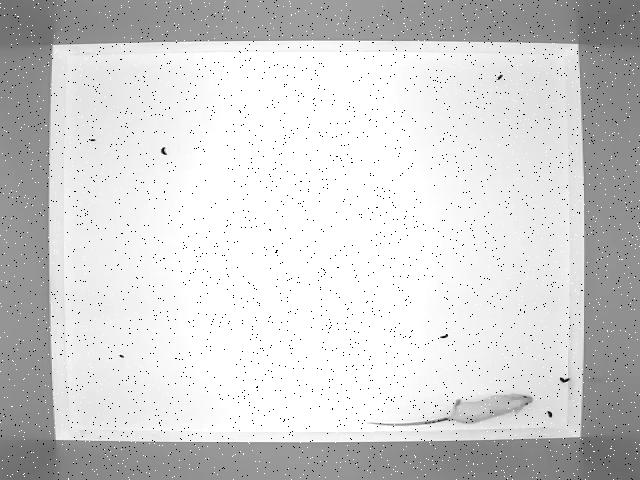Tikus: (366, 390, 536, 430)
